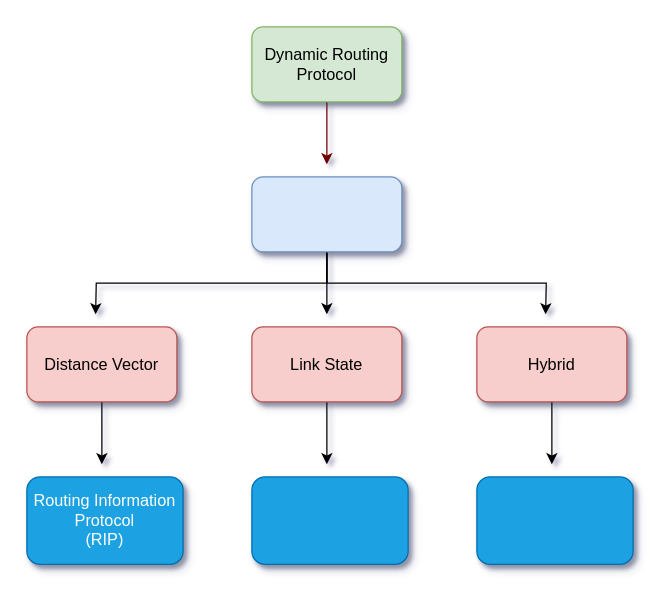
This 670x603 diagram has some shape labels left out. The centre of each missing label's shape, as x and y in pixels:
"Enhanced Interior Gateway Routing Protocol (EIGRP)" goes at point 556,522.
"Interior Gateway Protocol (IGP)" goes at point 327,216.
"Open Shortest Path First Protocol (OSPF)" goes at point 331,522.
